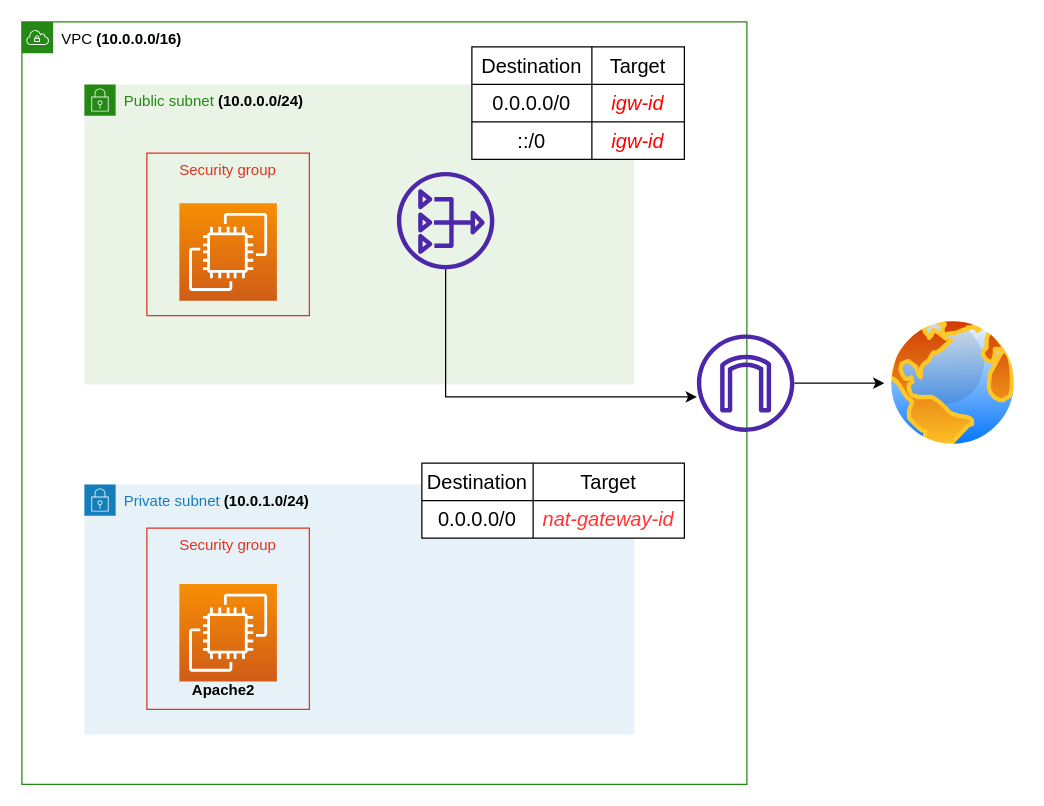
The diagram is 1044 pixels wide and 806 high, and some of its shapes have lost their labels. Each missing label, with the centre of its shape:
"Internet gateway" goes at point (745, 382).
"NAT gateway" goes at point (445, 220).
